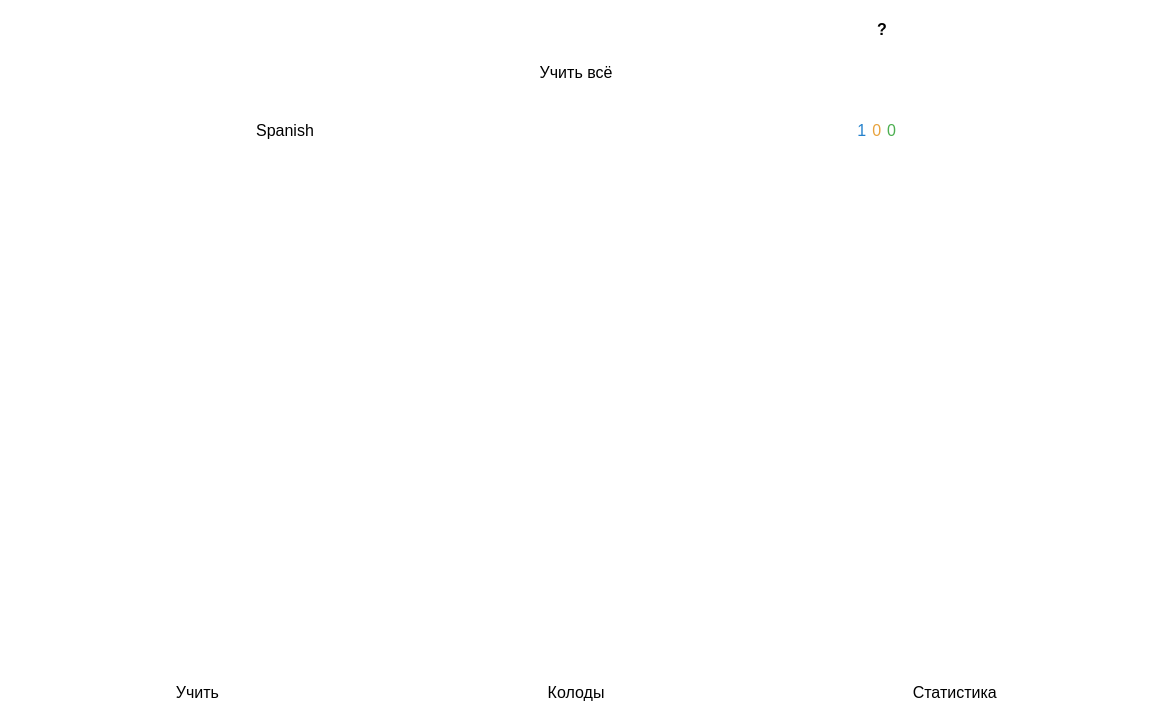
Test: Mini App › shows global goals when the selected deck queue is empty
Click the text "Spanish" at x=285, y=131, box [256, 122, 314, 140]
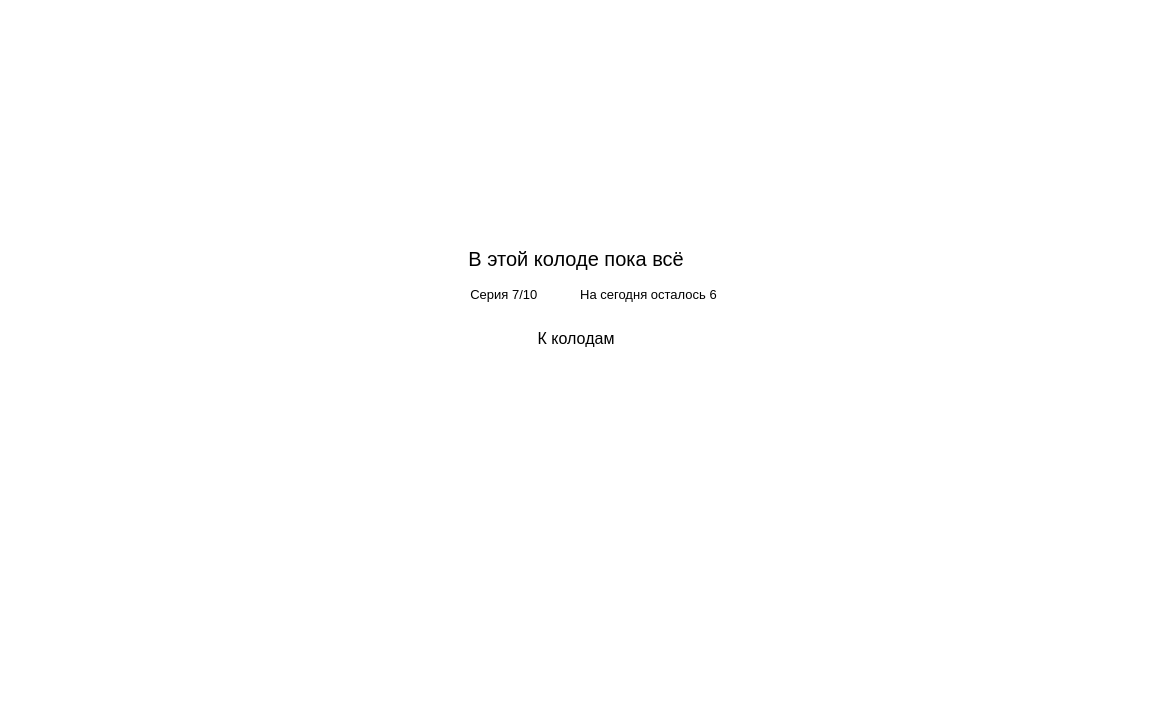
Expected: the text "В этой колоде пока всё" is shown, [468, 248, 684, 270]
Expected: the text "Серия 7/10" is shown, [470, 287, 537, 302]
Expected: the text "На сегодня осталось 6" is shown, [580, 287, 717, 302]
